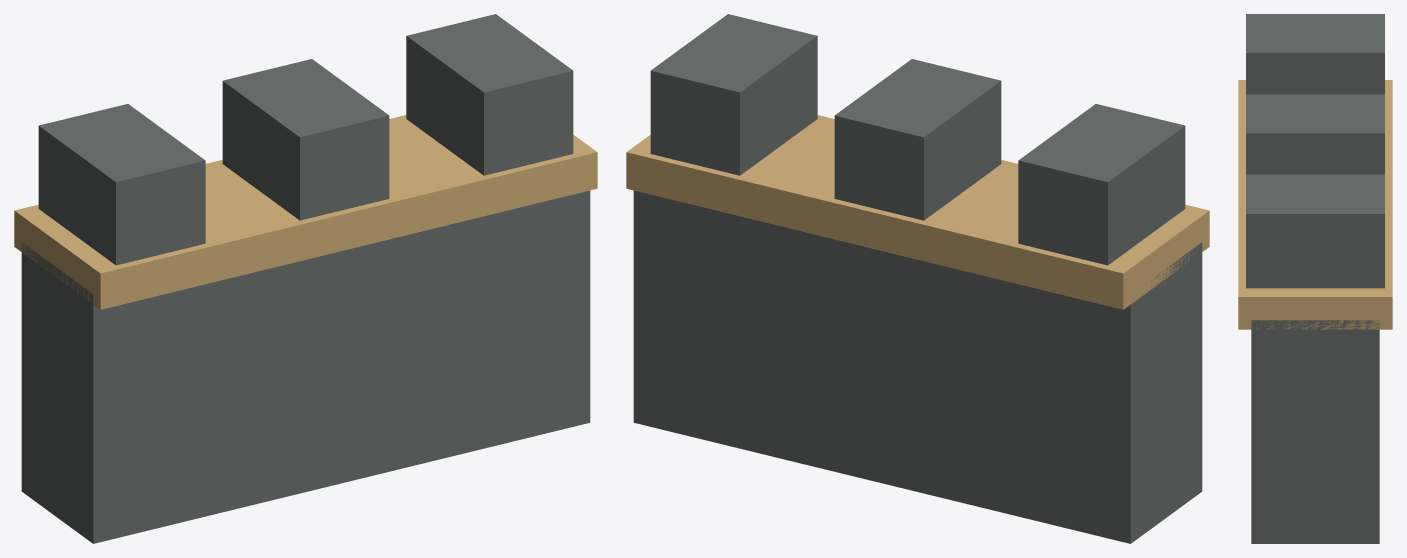
The model's file is Wall.fbx.
The picture shows the model from 3 angles, left to right: view 1: azimuth 30°, elevation 25°; view 2: azimuth 150°, elevation 25°; view 3: azimuth 270°, elevation 25°; orthographic projection. The views are drawn at different scales.
Parts seen in each view (by area): view 1: Wall; view 2: Wall; view 3: Wall.
Boxes of the visible parts, <box> form: Wall: <box>14,14,597,543</box>; Wall: <box>626,14,1209,543</box>; Wall: <box>1238,14,1392,543</box>.
Bounding box in the file's own units: 100 × 69 × 30.
